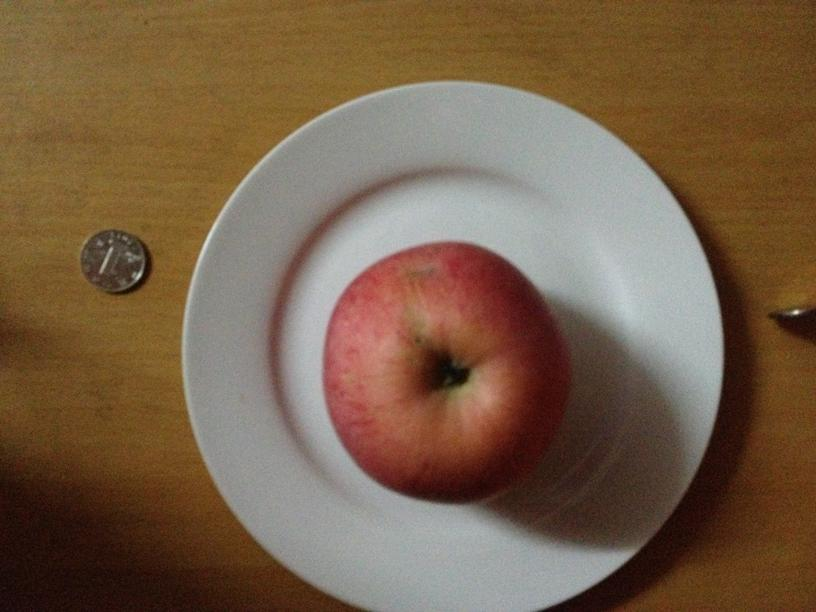apple: (321, 243, 573, 501)
coin: (78, 229, 148, 293)
